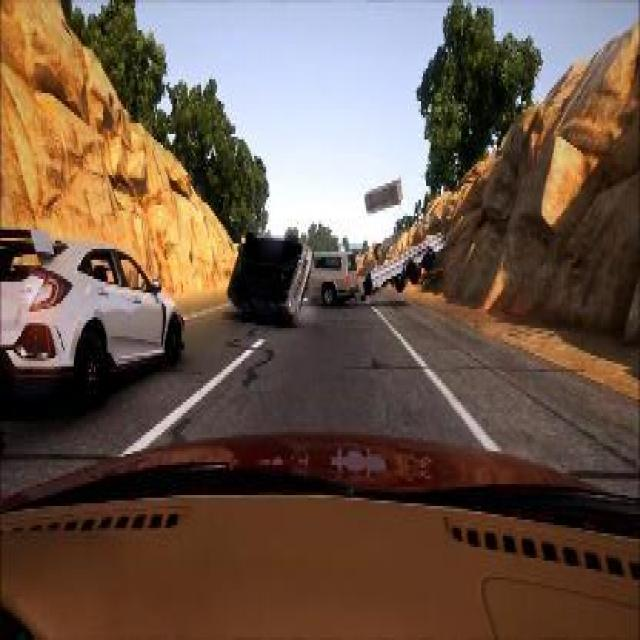accident: (222, 224, 351, 326)
